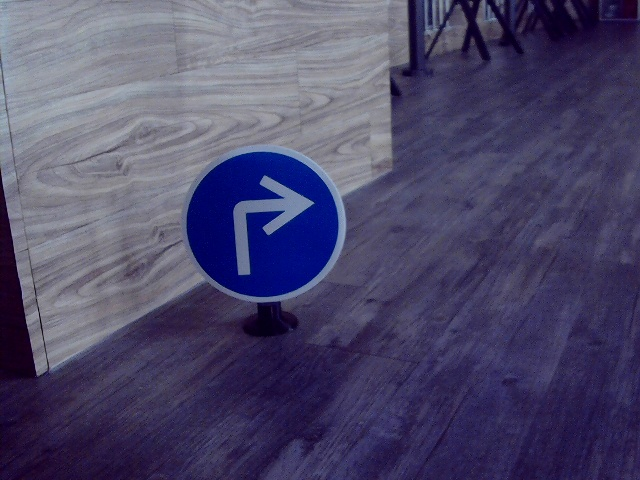turn_right: (225, 176, 314, 279)
